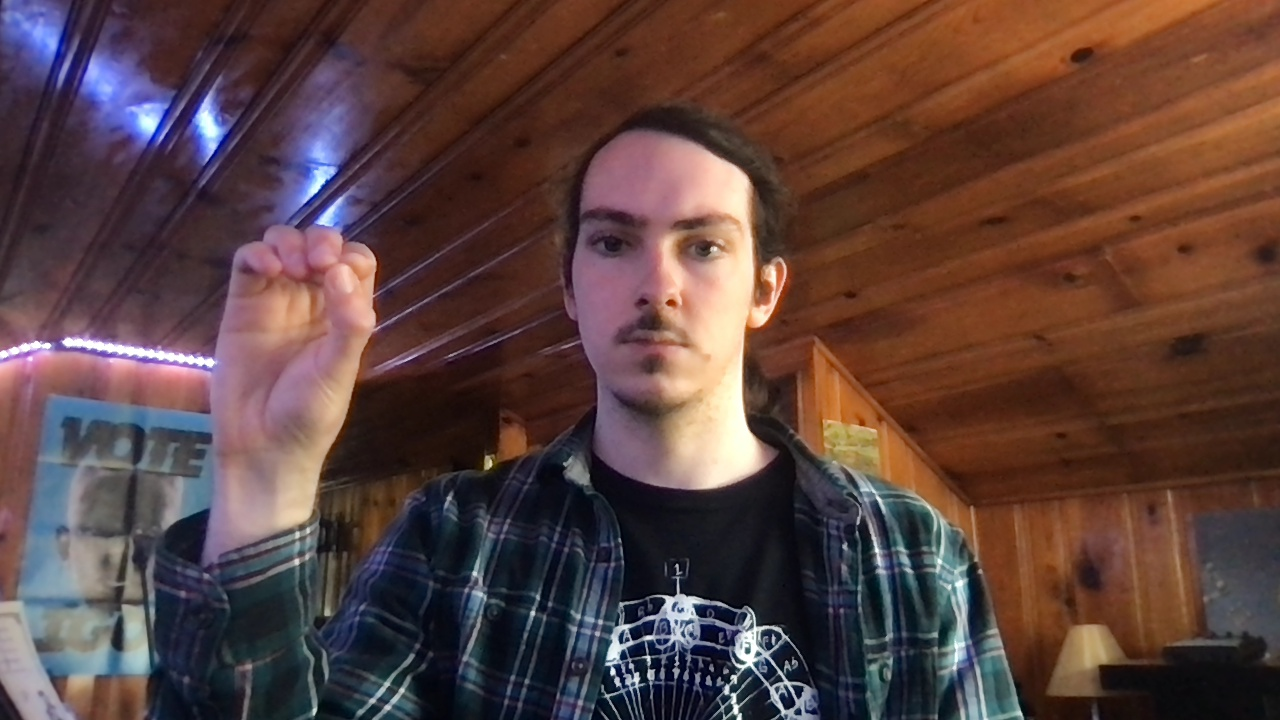o: (208, 221, 377, 457)
